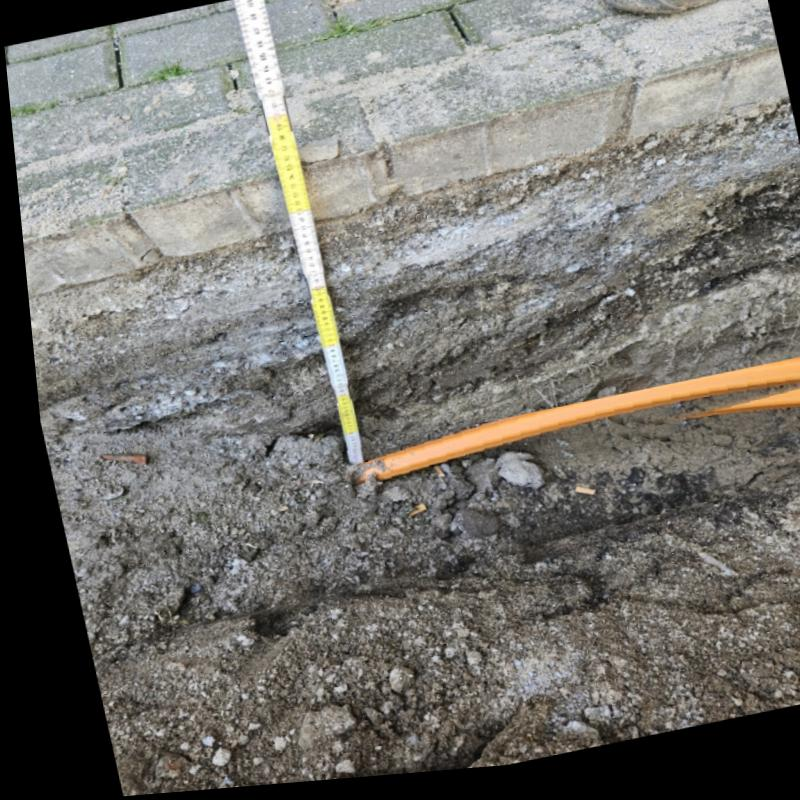Orang-Speednetrohrchen: (330, 368, 800, 497)
